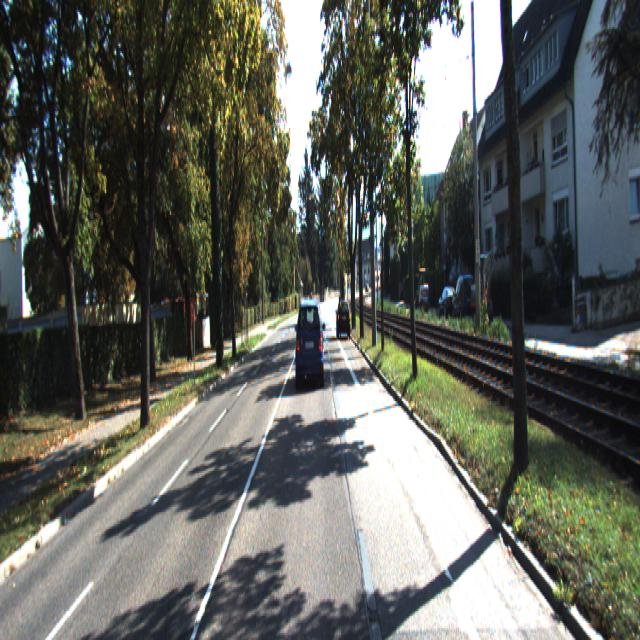Car: (294, 295, 324, 391), (471, 249, 491, 319), (452, 274, 477, 322), (438, 287, 460, 321), (337, 298, 351, 339), (418, 266, 428, 306)
